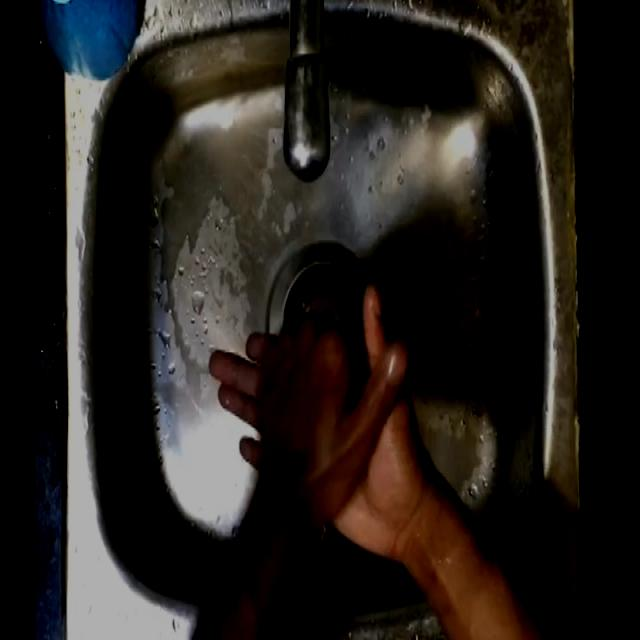step_5: (200, 282, 414, 556)
